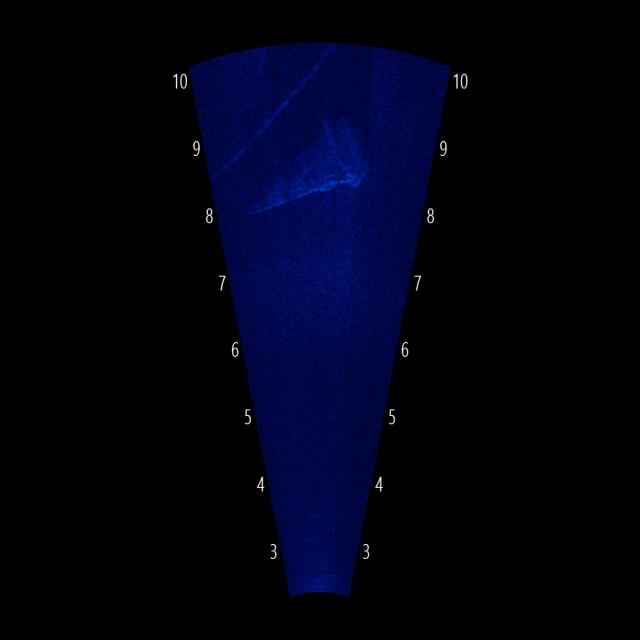triangle: (242, 105, 374, 218)
